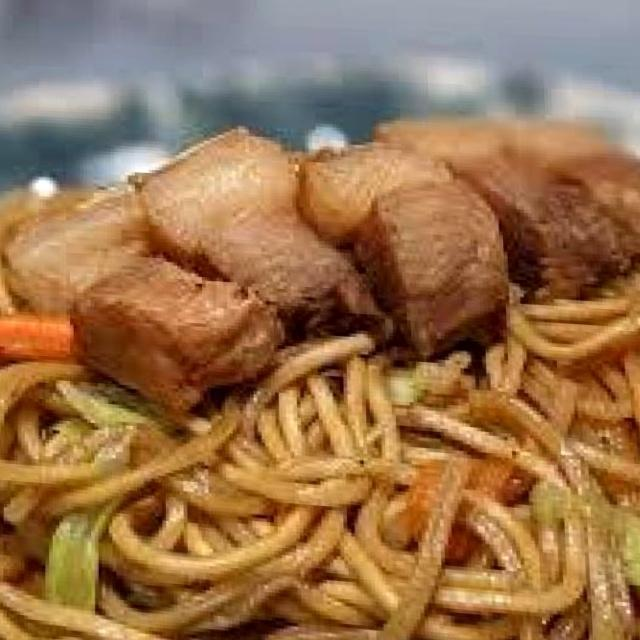pancit bihon: (0, 268, 639, 639)
